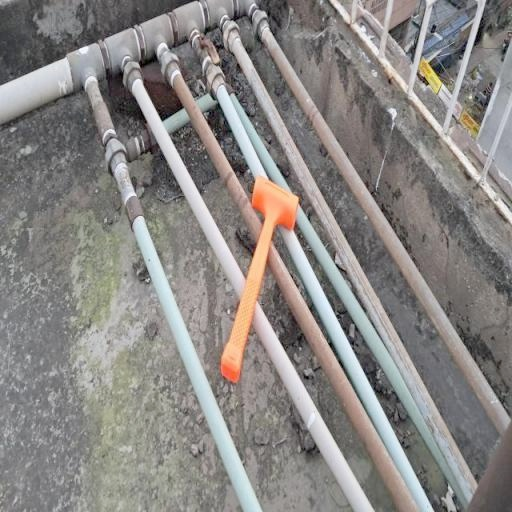mallet: (221, 173, 298, 384)
